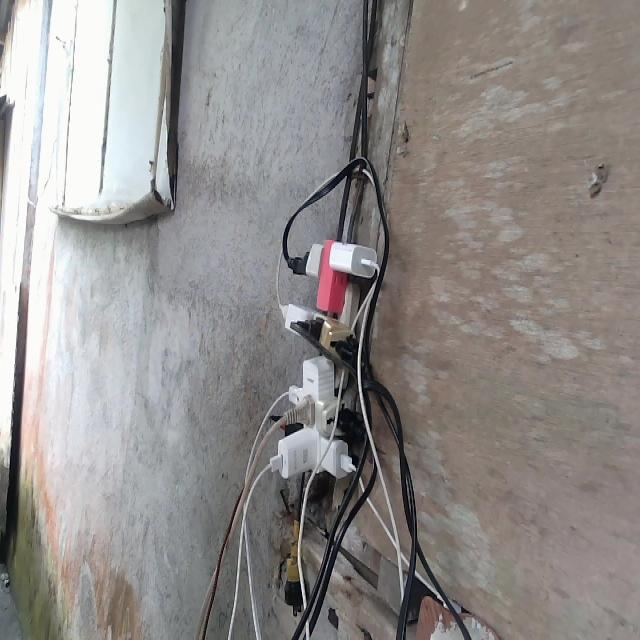-: (268, 232, 379, 477)
